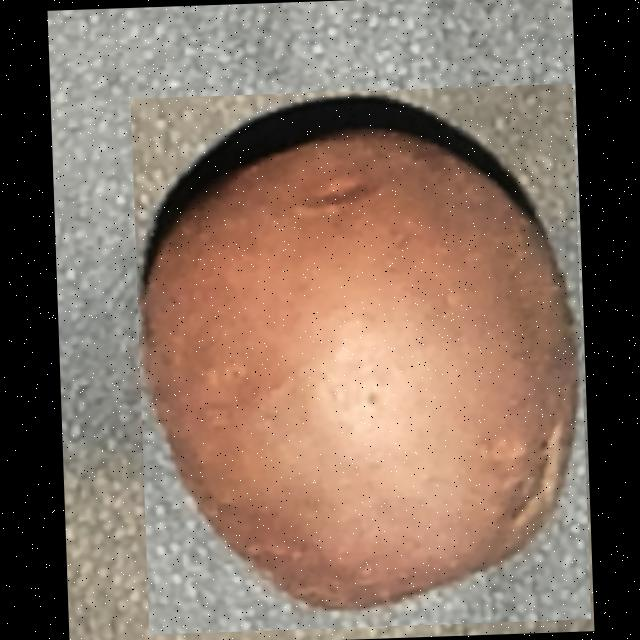Diseased-fungal potato: (130, 82, 590, 633)
